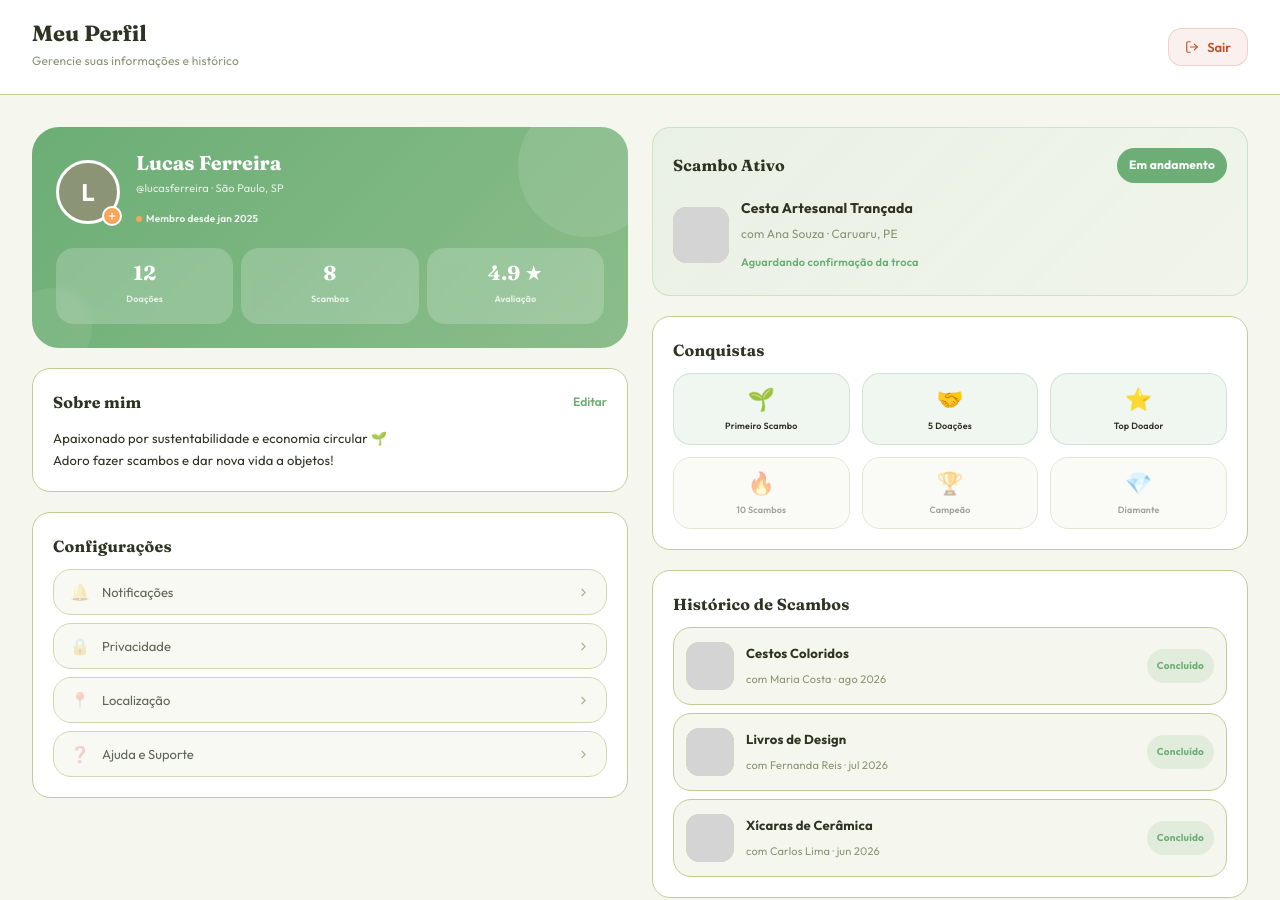
Test: Tela de perfil › Deve editar e salvar a bio
expect the heading "Lucas Ferreira" is shown: met, box top-left (136, 152), bottom-right (284, 176)
Click the button "Editar" at coordinates (590, 402), box top-left (573, 394), bottom-right (607, 409)
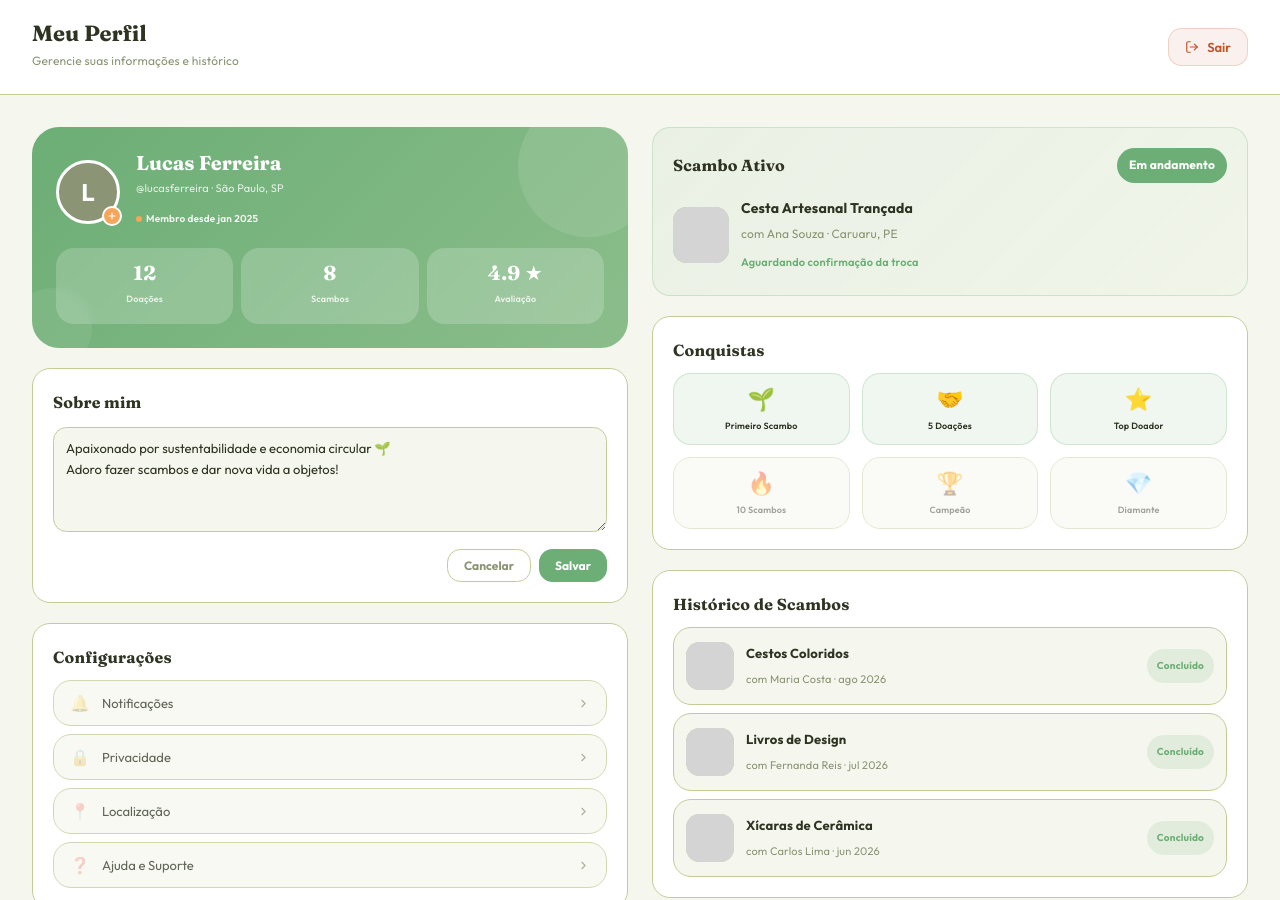
Replace the text in the text box named "Sobre mim" with "Nova bio" at coordinates (330, 480), box top-left (53, 427), bottom-right (607, 532)
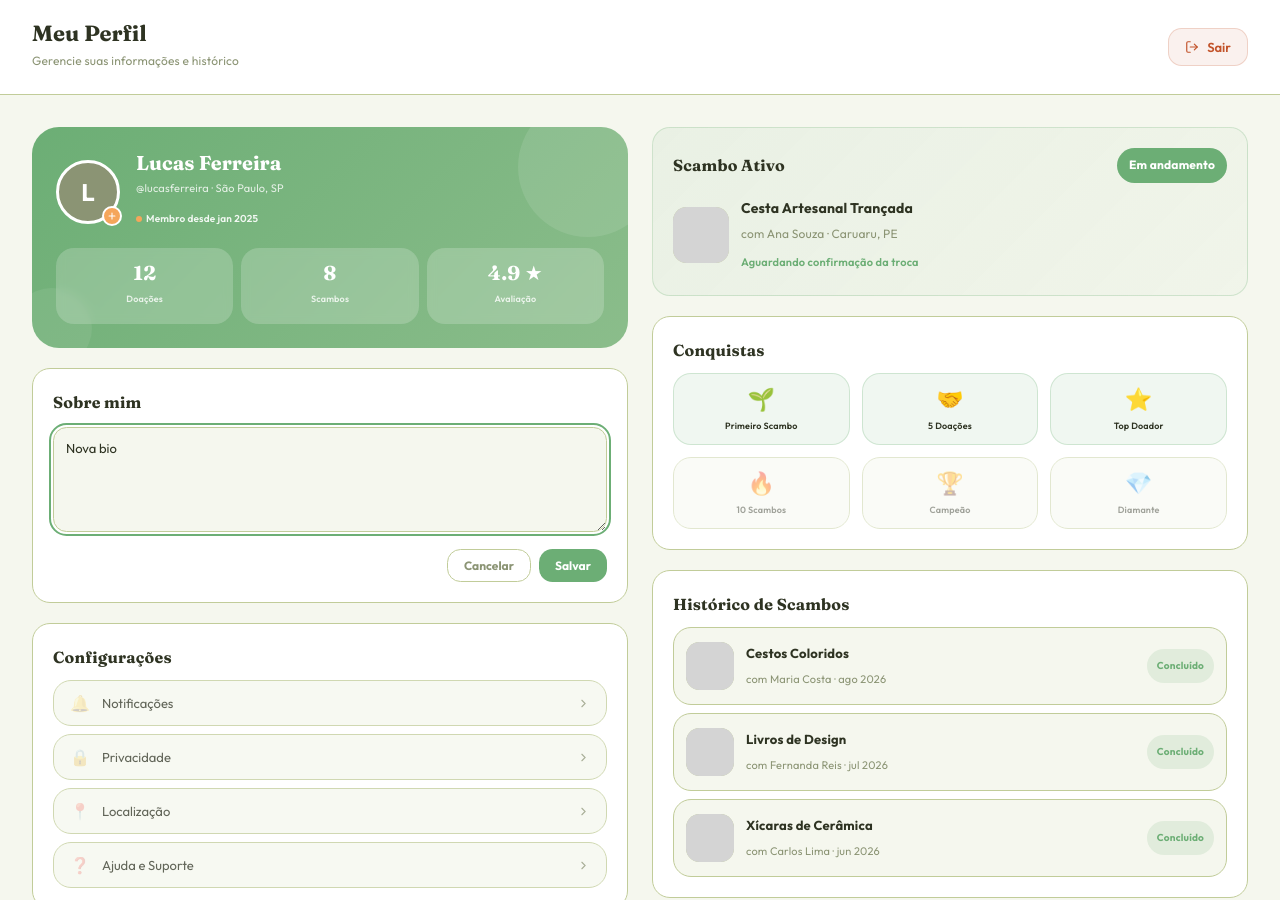
Click the button "Salvar" at coordinates (573, 566), box top-left (539, 549), bottom-right (607, 582)
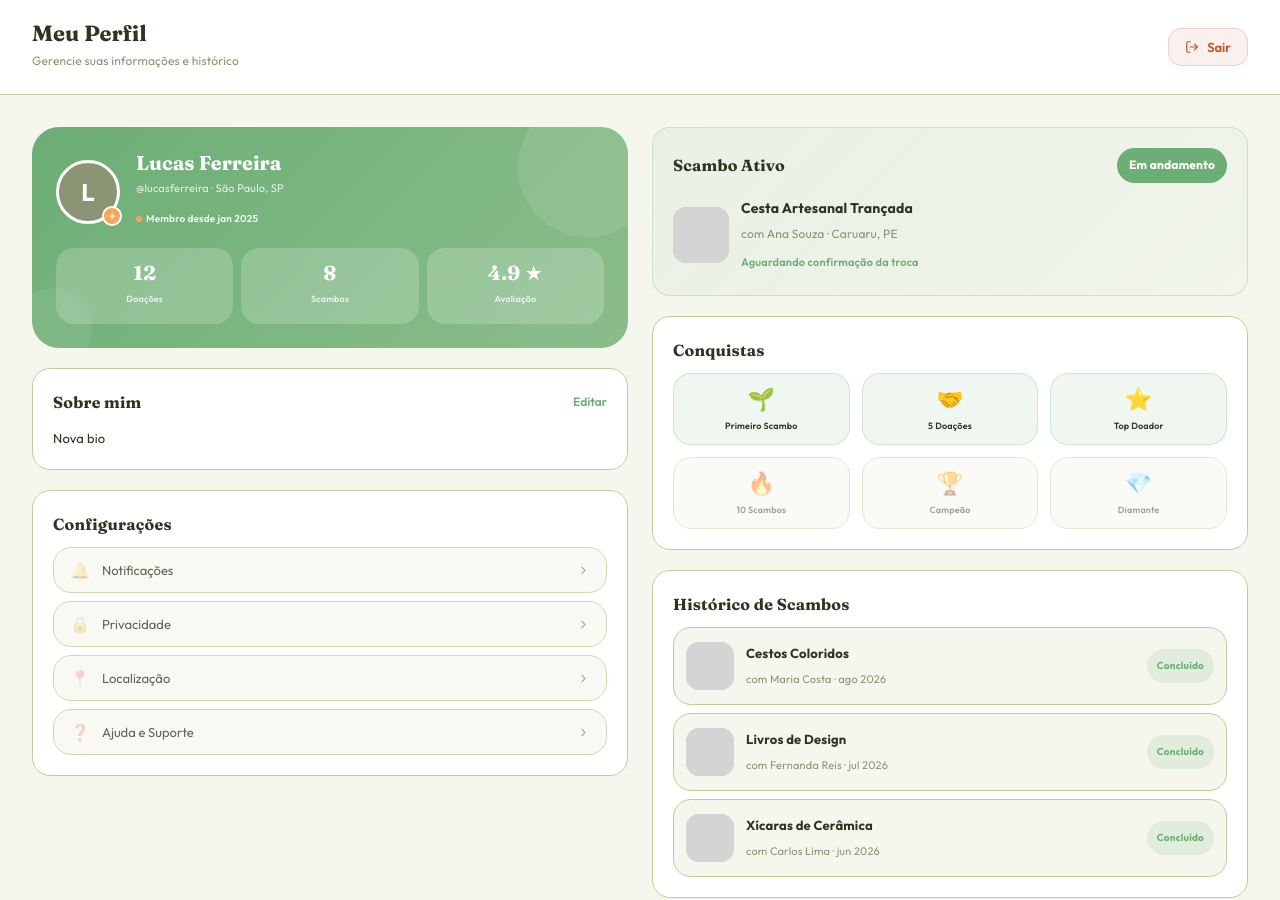
expect the text "Nova bio" is shown: met, box top-left (53, 430), bottom-right (105, 446)
